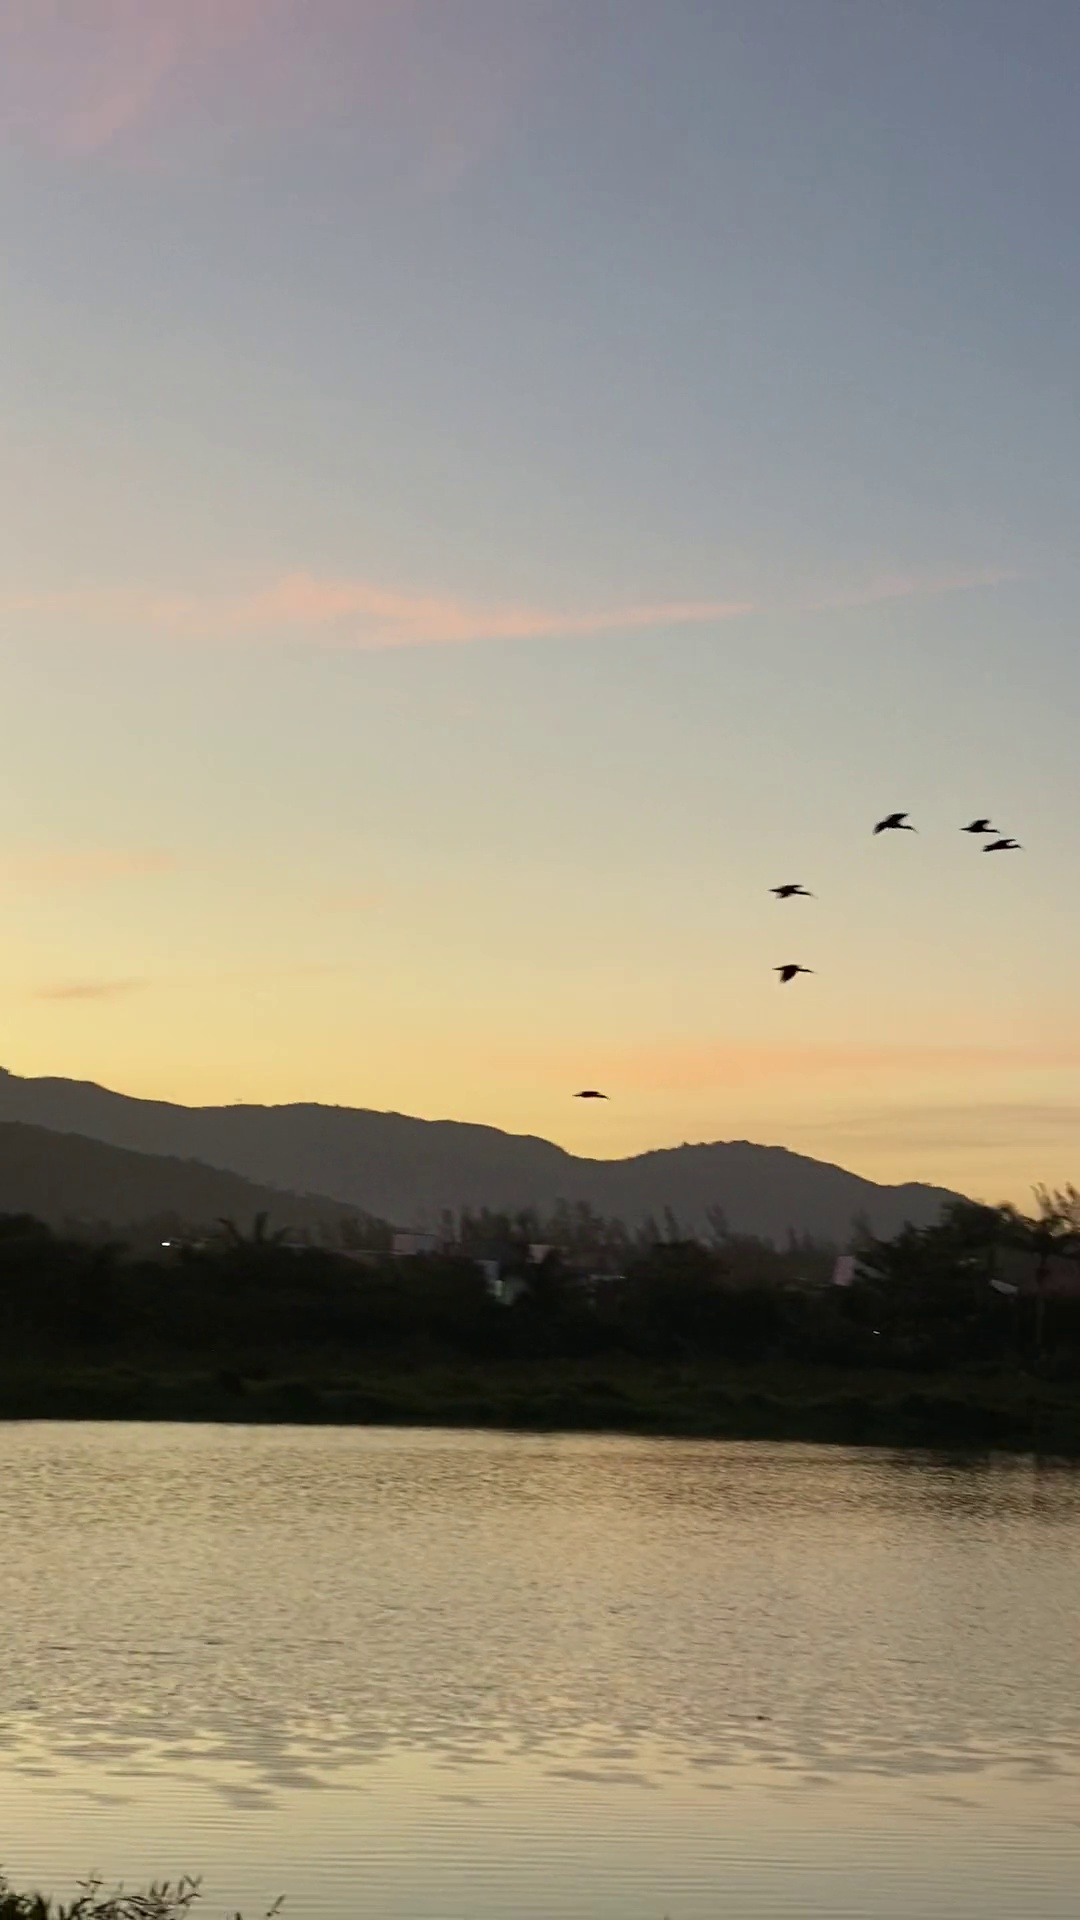bird: (874, 814, 916, 835), (773, 964, 814, 984), (981, 837, 1022, 853), (769, 884, 812, 898), (959, 819, 1000, 833), (572, 1091, 607, 1101)
